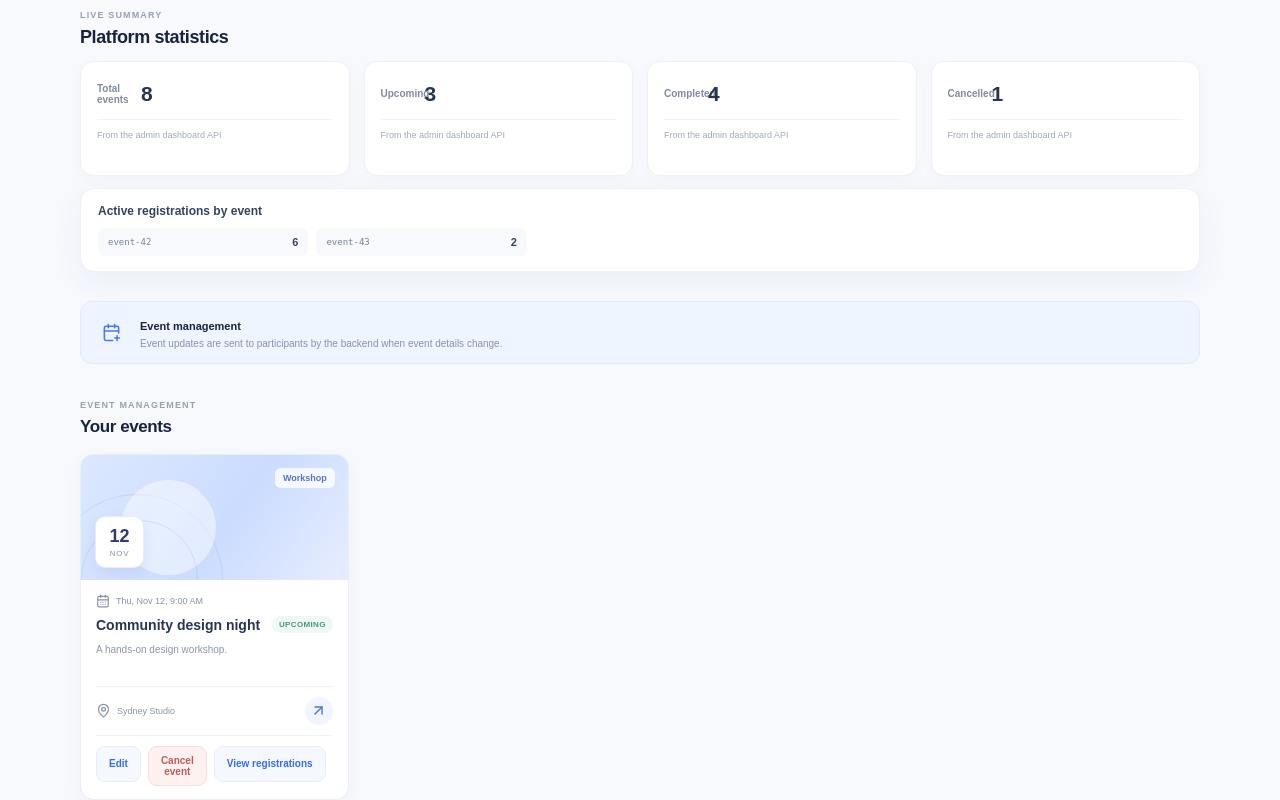
Test: admin event actions › updates an event through the admin edit form
The width and height of the screenshot is (1280, 800).
(page scrolled)
Click the button "Edit": (118,764) [96,746,141,782]
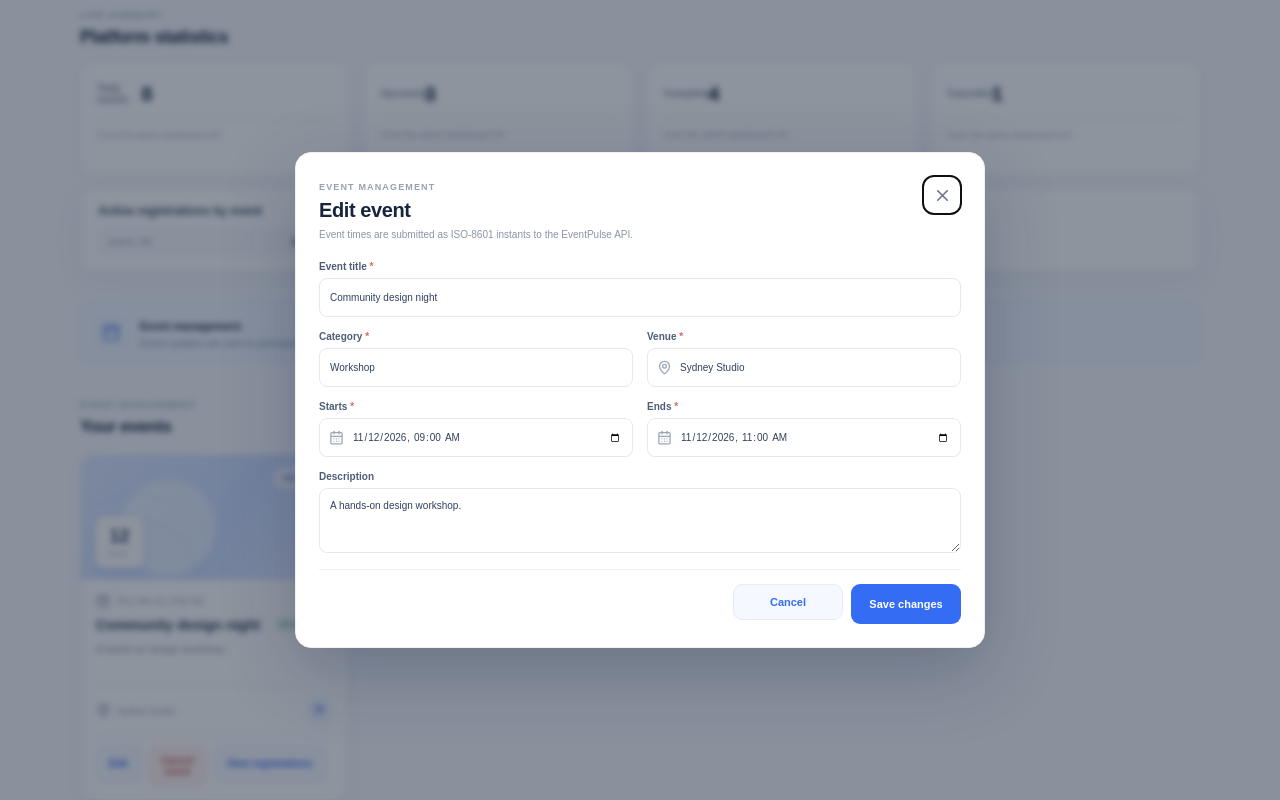
Replace the text in the field with placeholder "e.g. Community design night" with "Updated design night": (640,298) [319,278,961,317]
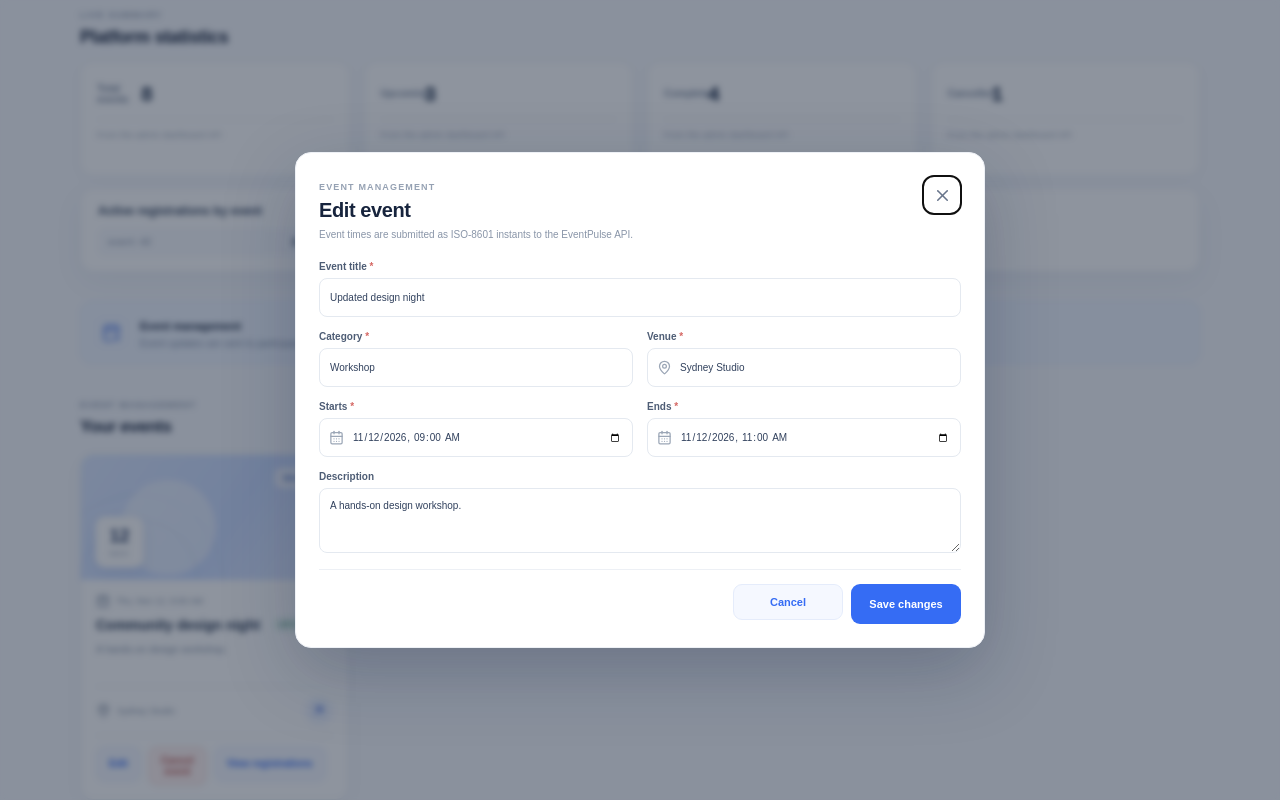
Submit the form, box [319,261,961,624]
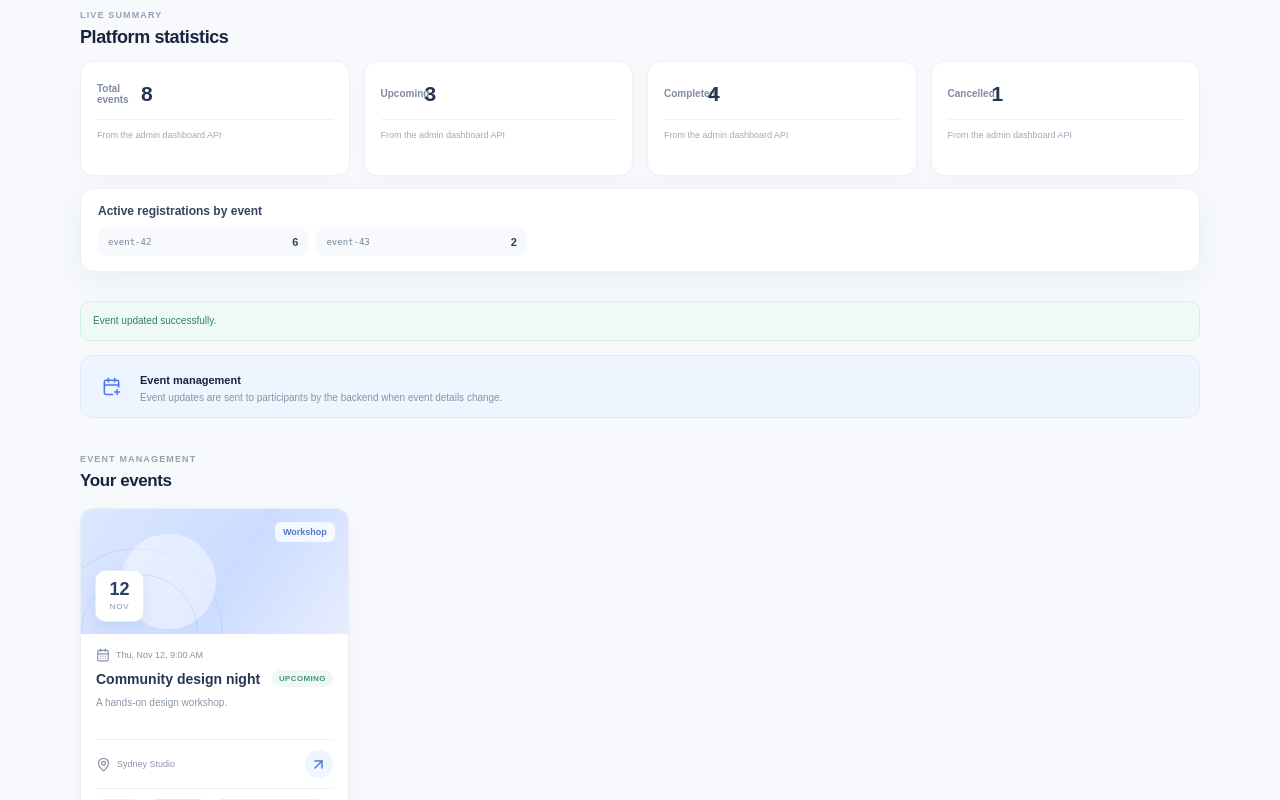
Expected: the message reads "Event updated successfully.", [93,315,216,326]
